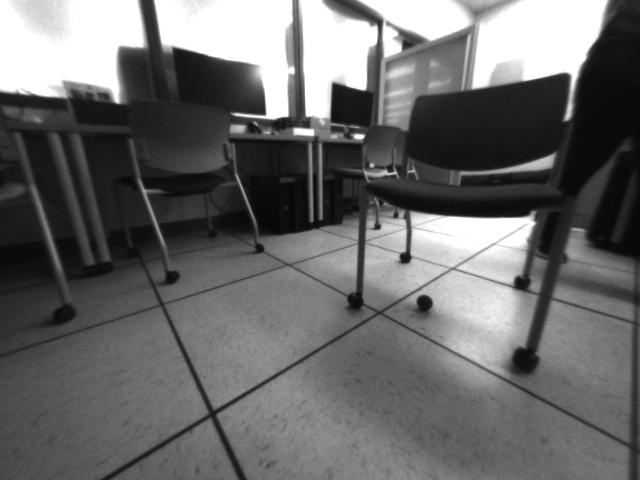dogtoy: (410, 289, 437, 315)
